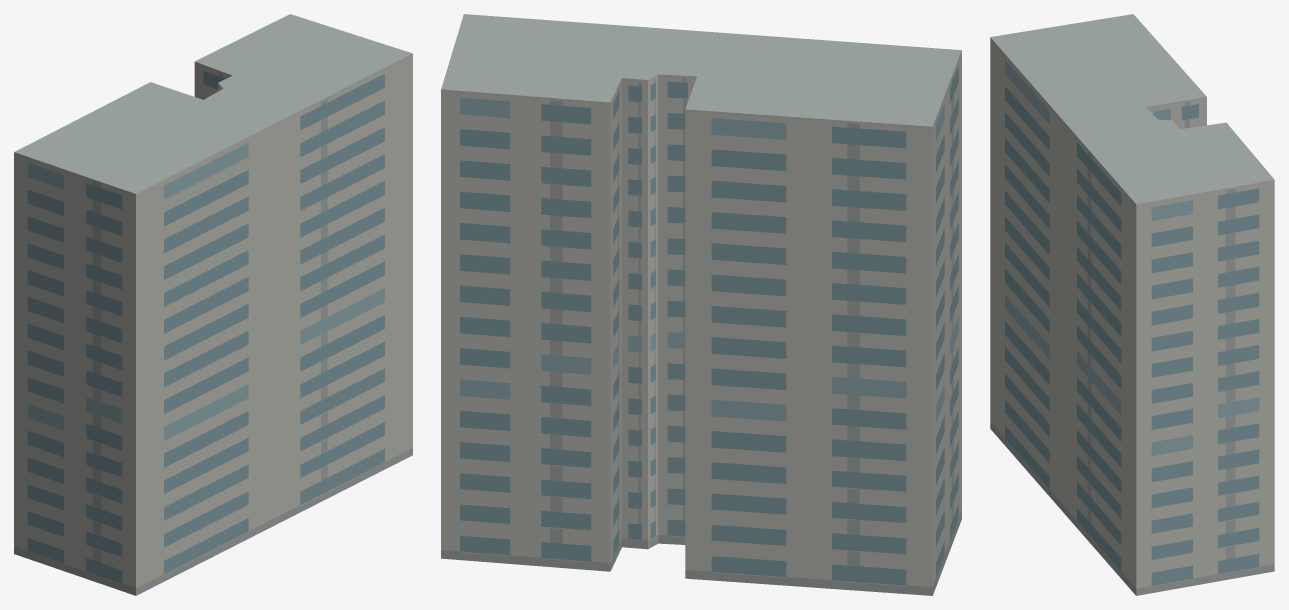
Rendered from residential-29804ee4-8933-46eb-a4bd-fd2cec6bd74a.glb.
3 renders of one model, left to right at view 1: azimuth 30°, elevation 25°; view 2: azimuth 150°, elevation 25°; view 3: azimuth 270°, elevation 25°, orthographic. The views are drawn at different scales.
Visible parts, largest first — view 1: residential-29804ee4-8933-46eb-a4bd-fd2cec6bd74a.tmp; view 2: residential-29804ee4-8933-46eb-a4bd-fd2cec6bd74a.tmp; view 3: residential-29804ee4-8933-46eb-a4bd-fd2cec6bd74a.tmp.
Boxes of the visible parts, bbox=[...] form: residential-29804ee4-8933-46eb-a4bd-fd2cec6bd74a.tmp: bbox=[14, 14, 412, 595]; residential-29804ee4-8933-46eb-a4bd-fd2cec6bd74a.tmp: bbox=[441, 14, 961, 595]; residential-29804ee4-8933-46eb-a4bd-fd2cec6bd74a.tmp: bbox=[990, 14, 1274, 595].
Size of the model in its own units: 51.07 by 49 by 32.26.
